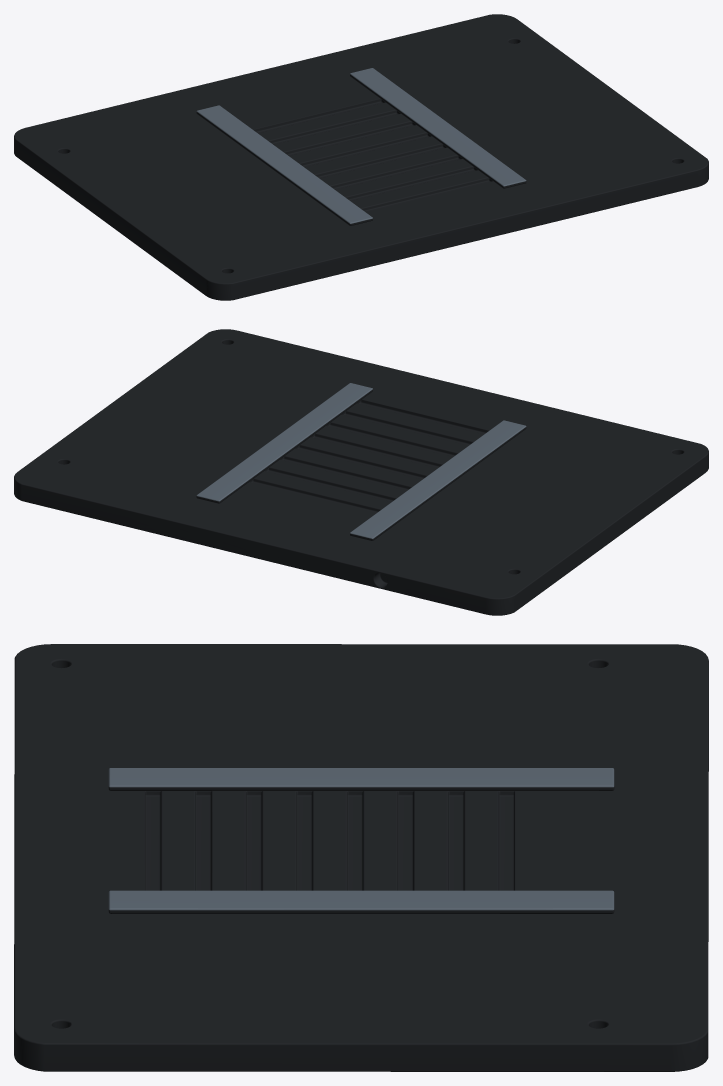
The model's file is plate-06-reliability-sync.glb.
The picture shows the model from 3 angles, top to bottom: view 1: azimuth 30°, elevation 25°; view 2: azimuth 150°, elevation 25°; view 3: azimuth 270°, elevation 25°; orthographic projection. The views are drawn at different scales.
Parts seen in each view (by area): view 1: Plate_06_Reliability_Sync; view 2: Plate_06_Reliability_Sync; view 3: Plate_06_Reliability_Sync.
Boxes of the visible parts, <box> form: Plate_06_Reliability_Sync: <box>14,14,708,300</box>; Plate_06_Reliability_Sync: <box>14,329,708,615</box>; Plate_06_Reliability_Sync: <box>14,644,708,1071</box>.
Size of the model in its own units: 0.3 by 0.012 by 0.22.
